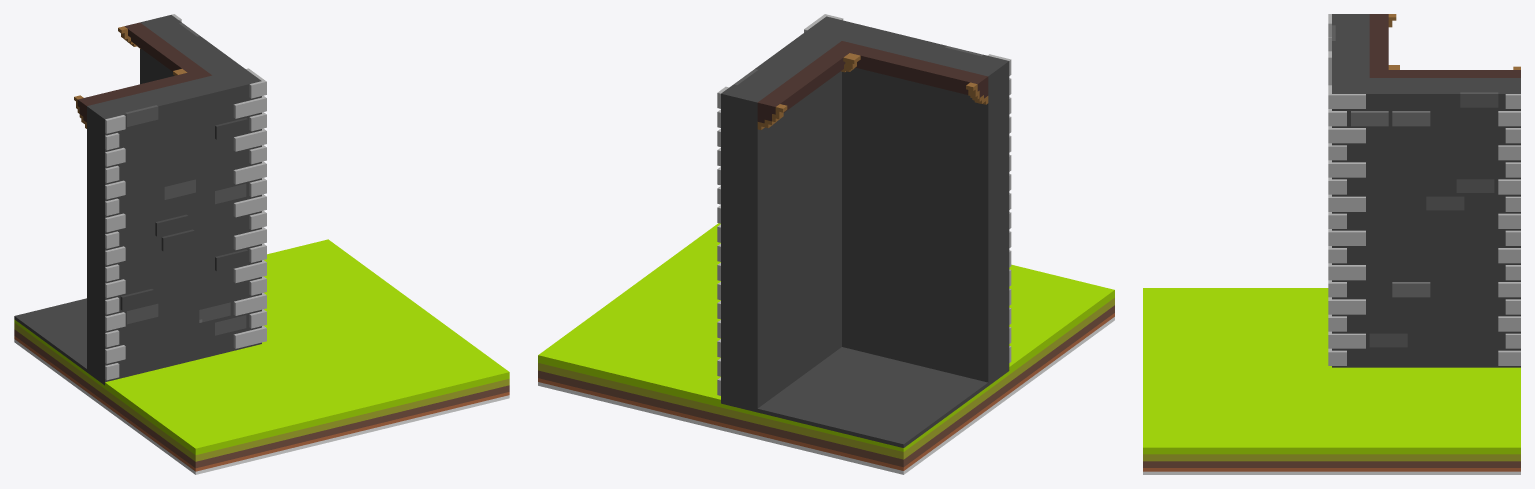
The model's file is House-10-House Corner.obj.
3 views of the same model, side by side, from view 1: azimuth 30°, elevation 25°; view 2: azimuth 150°, elevation 25°; view 3: azimuth 270°, elevation 25° (orthographic). The views are drawn at different scales.
Parts seen in each view (by area): view 1: House Corner; view 2: House Corner; view 3: House Corner.
Part boxes in pixels (left/top/right/bottom): House Corner: left=14, top=14, right=509, bottom=474; House Corner: left=538, top=14, right=1114, bottom=474; House Corner: left=1143, top=14, right=1520, bottom=474.
Size of the model in its own units: 10 by 8.8 by 10.
Materials: 1 (1 with a texture image).
